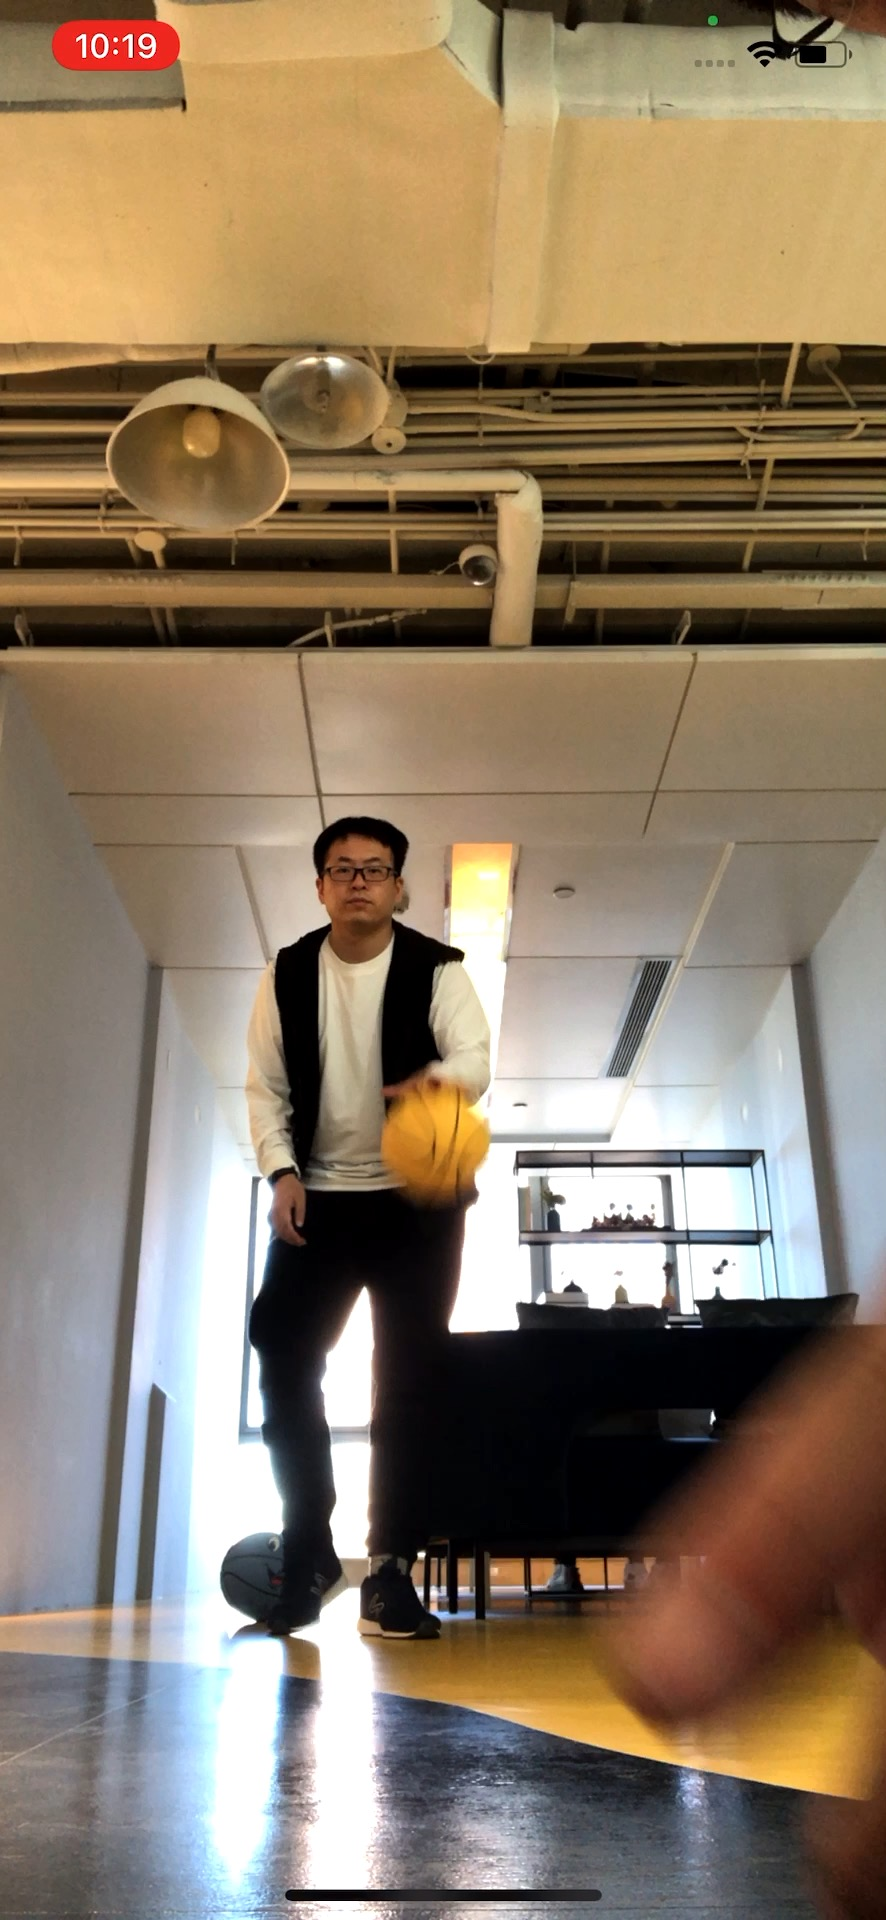ball: (378, 1090, 490, 1206), (221, 1533, 294, 1627)
